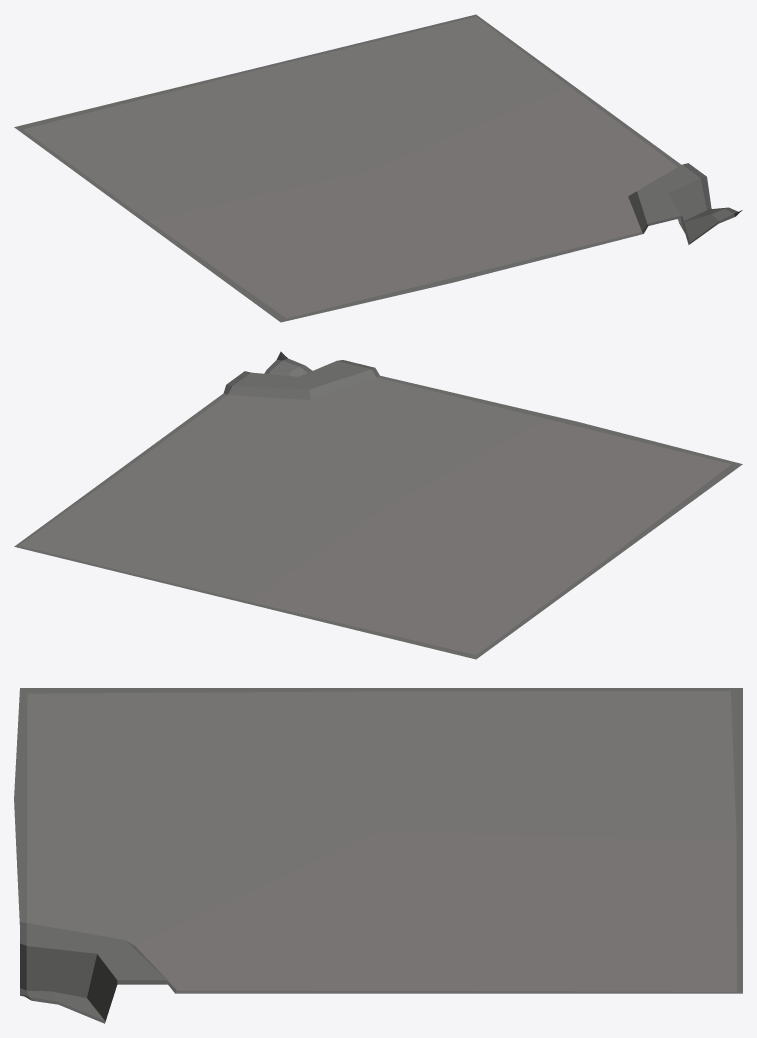
Rendered from SM_Gen_Env_Sidewalk_Corner_02.glb.
3 views of the same model, one above another, from view 1: azimuth 30°, elevation 25°; view 2: azimuth 150°, elevation 25°; view 3: azimuth 270°, elevation 25° (orthographic). The views are drawn at different scales.
Parts seen in each view (by area): view 1: SM_Gen_Env_Sidewalk_Corner_022; view 2: SM_Gen_Env_Sidewalk_Corner_022; view 3: SM_Gen_Env_Sidewalk_Corner_022.
Part boxes in pixels (left/top/right/bottom): SM_Gen_Env_Sidewalk_Corner_022: left=14, top=14, right=742, bottom=322; SM_Gen_Env_Sidewalk_Corner_022: left=14, top=351, right=742, bottom=659; SM_Gen_Env_Sidewalk_Corner_022: left=14, top=688, right=742, bottom=1023.
Size of the model in its own units: 2.5 by 0.15 by 2.52.
Materials: 1 (1 with a texture image).
